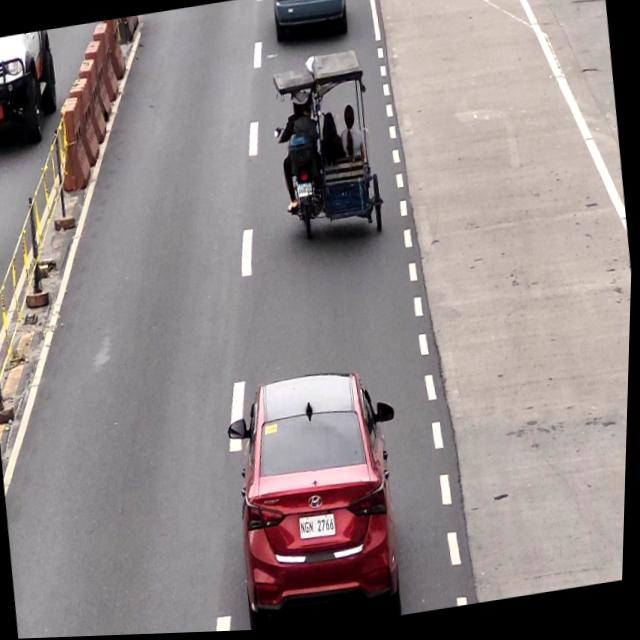Car: (229, 362, 414, 633), (269, 0, 349, 50)
License-Plate: (298, 512, 341, 542), (296, 182, 316, 202)
Tricycle: (267, 45, 389, 246)
